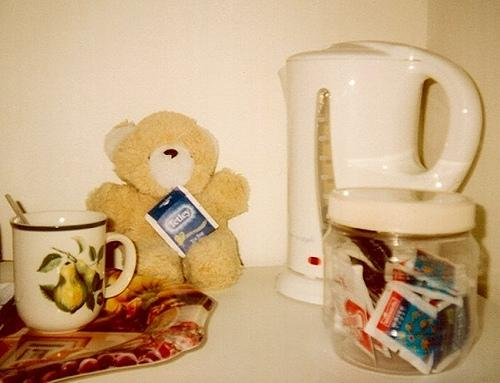pear: (52, 262, 88, 314), (75, 260, 96, 294)
